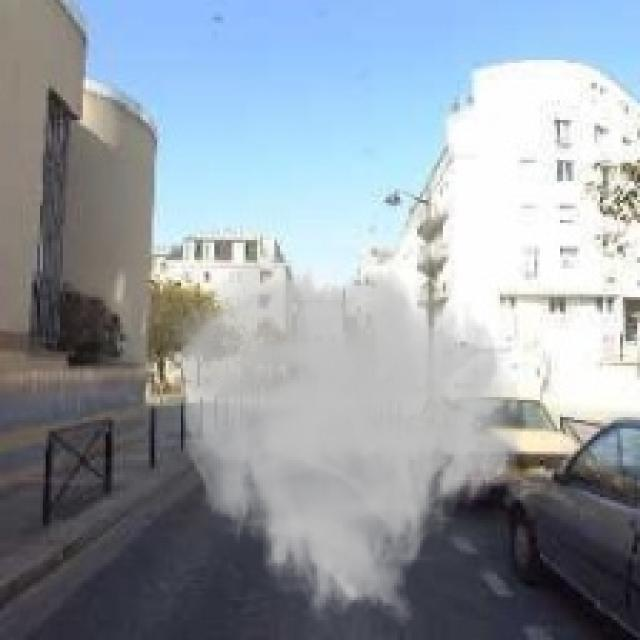Smoke: (165, 252, 526, 628)
